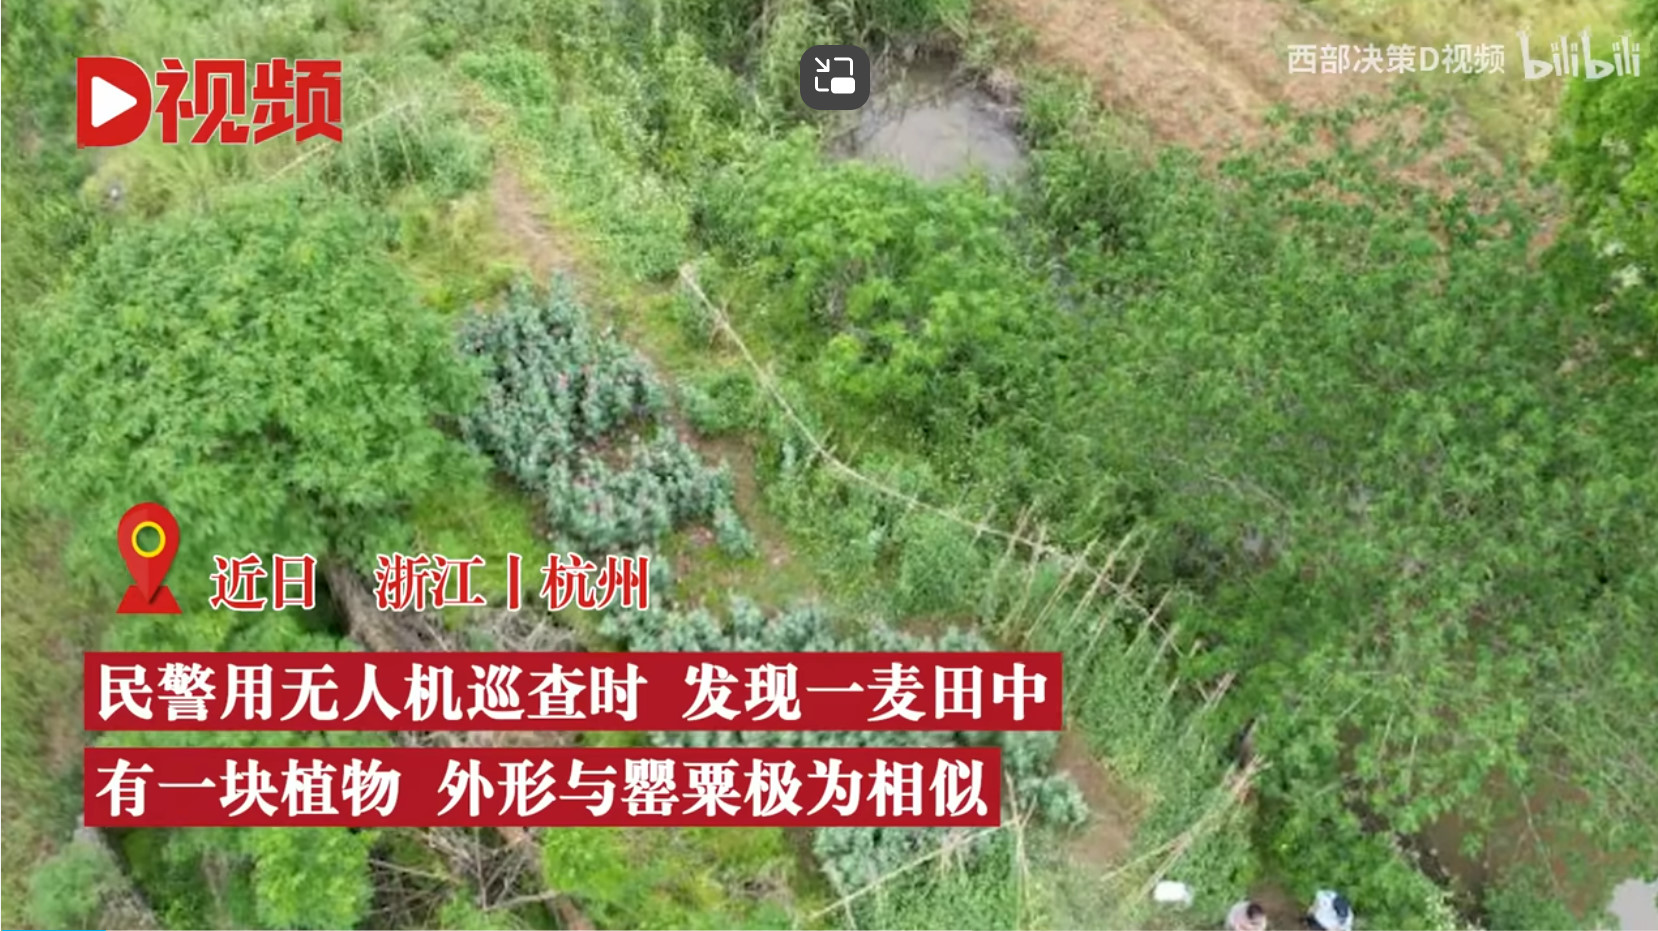Poppy: (440, 270, 752, 557), (604, 554, 988, 651)
